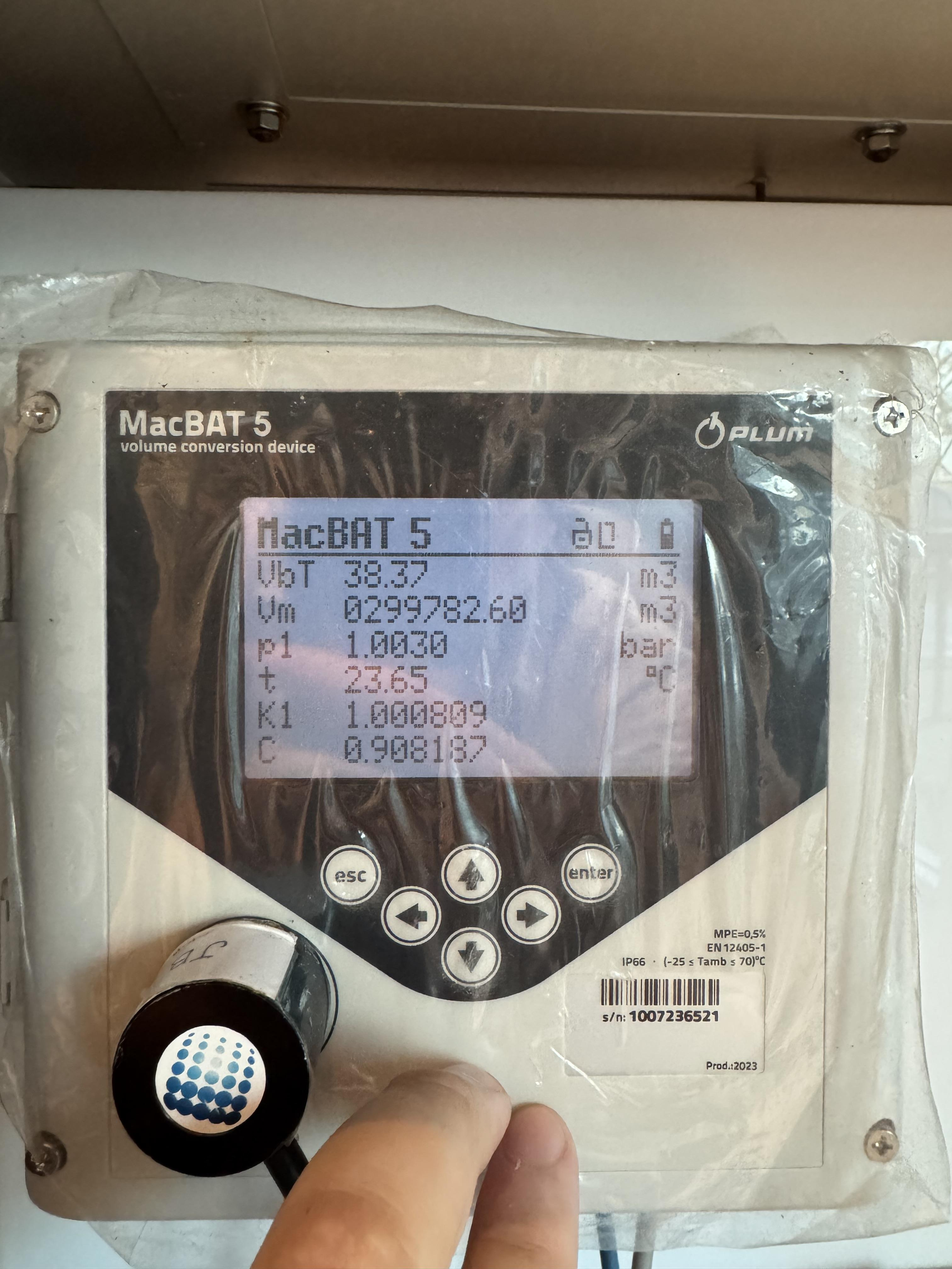digital_screen: (242, 500, 700, 779)
